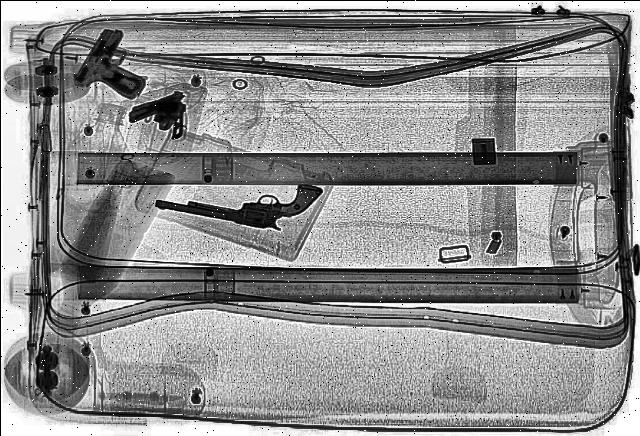Gun: (152, 154, 326, 242), (42, 20, 166, 108), (120, 84, 206, 144)
